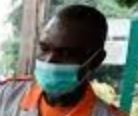with_facemask: (30, 55, 79, 93)
